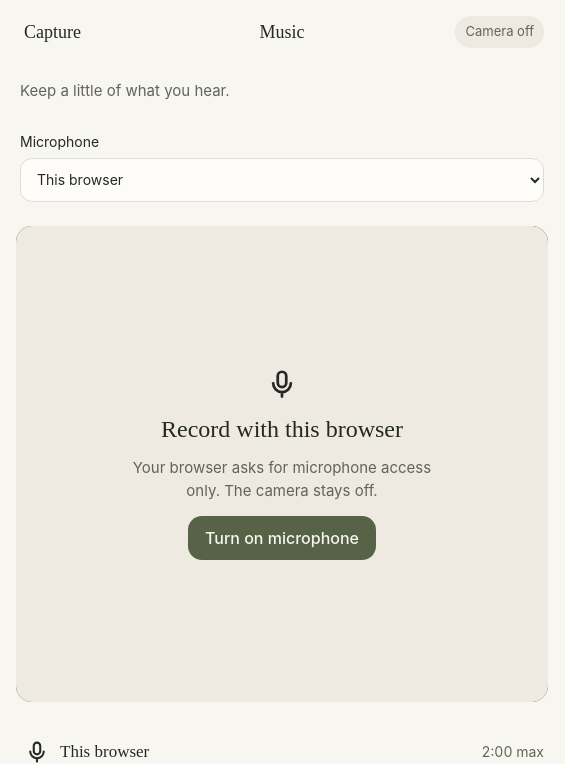
Scenario: Music Mode UI (AUD01) › falls back to a WAV file picker when getUserMedia is missing
Click the button "Turn on microphone". click: (282, 538)
box: [188,516,376,560]
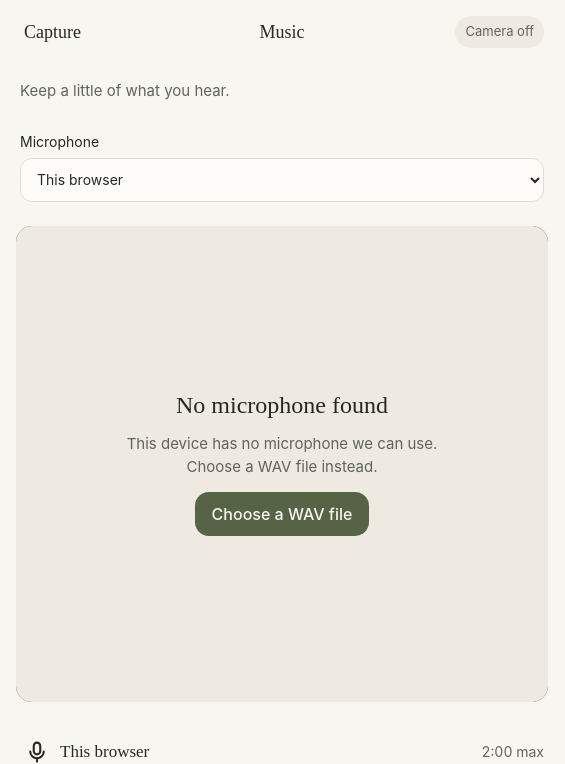
Now the message shows "No microphone found", box [176,392,388,418]
Now the button "Choose a WAV file" is shown, box [195,492,369,536]
